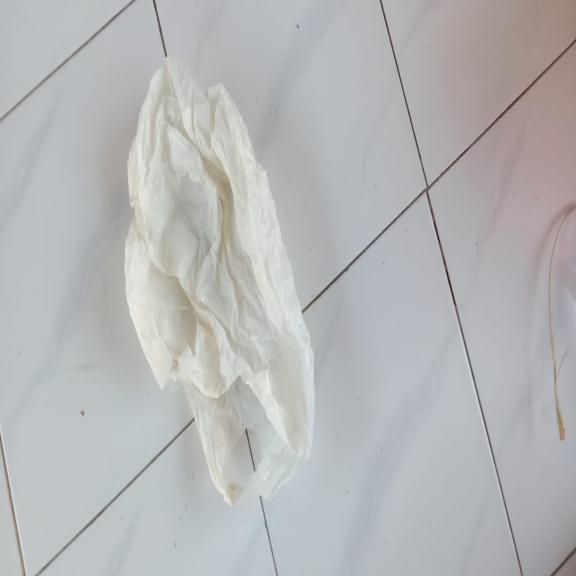Plastik: (123, 55, 315, 508)
